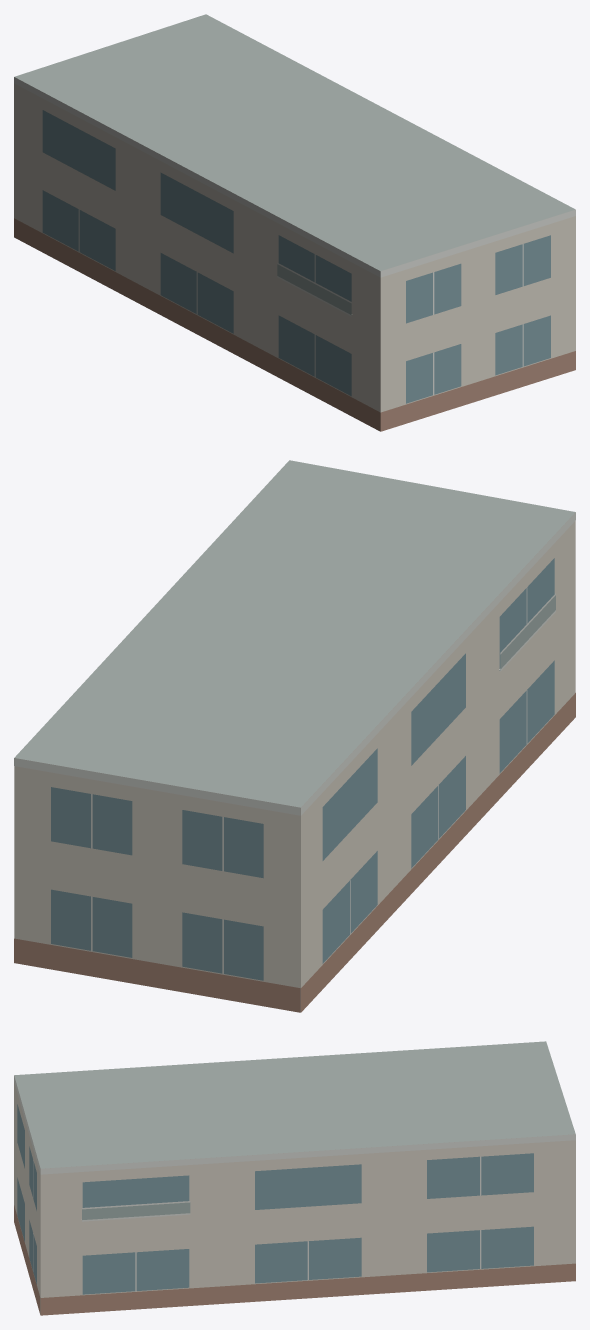
Rendered from survey-upis-32574637.glb.
3 views of the same model, one above another, from view 1: azimuth 30°, elevation 25°; view 2: azimuth 150°, elevation 25°; view 3: azimuth 270°, elevation 25° (orthographic). The views are drawn at different scales.
Parts seen in each view (by area): view 1: survey-upis-32574637.tmp; view 2: survey-upis-32574637.tmp; view 3: survey-upis-32574637.tmp.
Boxes of the visible parts, x1,y1,x2,y2 form: survey-upis-32574637.tmp: (14,14,575,431); survey-upis-32574637.tmp: (14,460,575,1012); survey-upis-32574637.tmp: (14,1041,575,1315).
Size of the model in its own units: 11.36 by 6.1 by 21.16.
